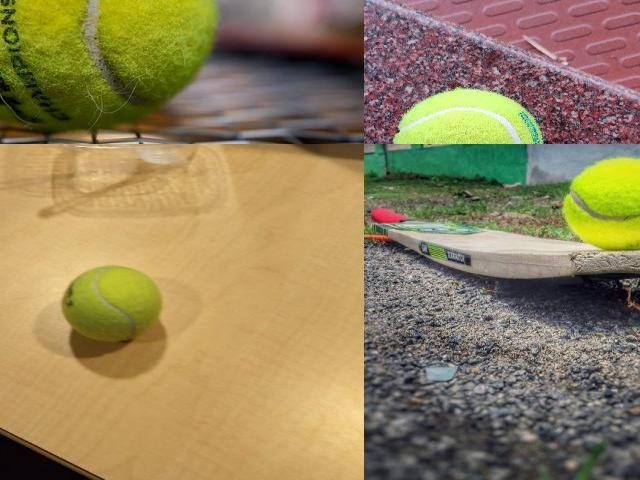tennis-ball: (0, 0, 219, 130), (393, 89, 542, 143), (61, 264, 162, 342), (563, 157, 639, 249)
